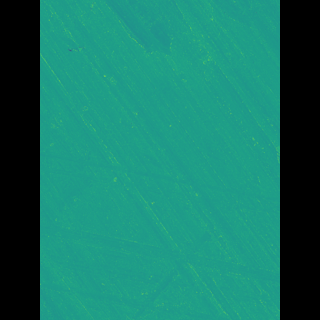Loch: (67, 208, 250, 289), (68, 226, 220, 320), (69, 143, 250, 204)
